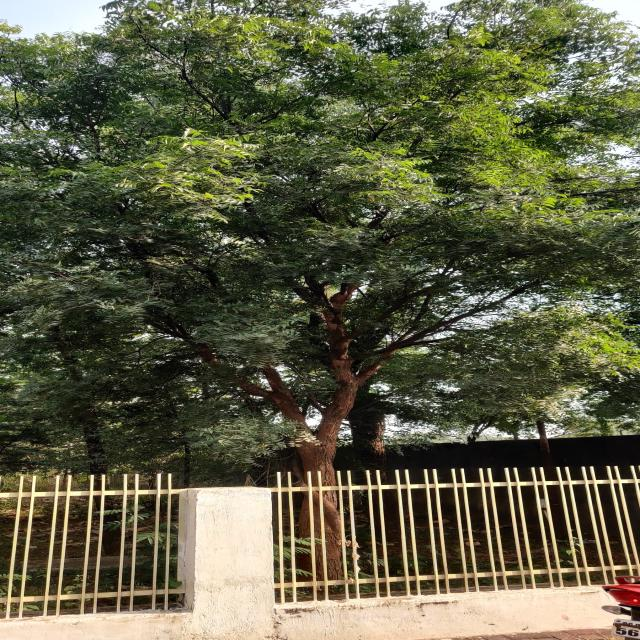Neem Tree: (116, 16, 614, 412)
